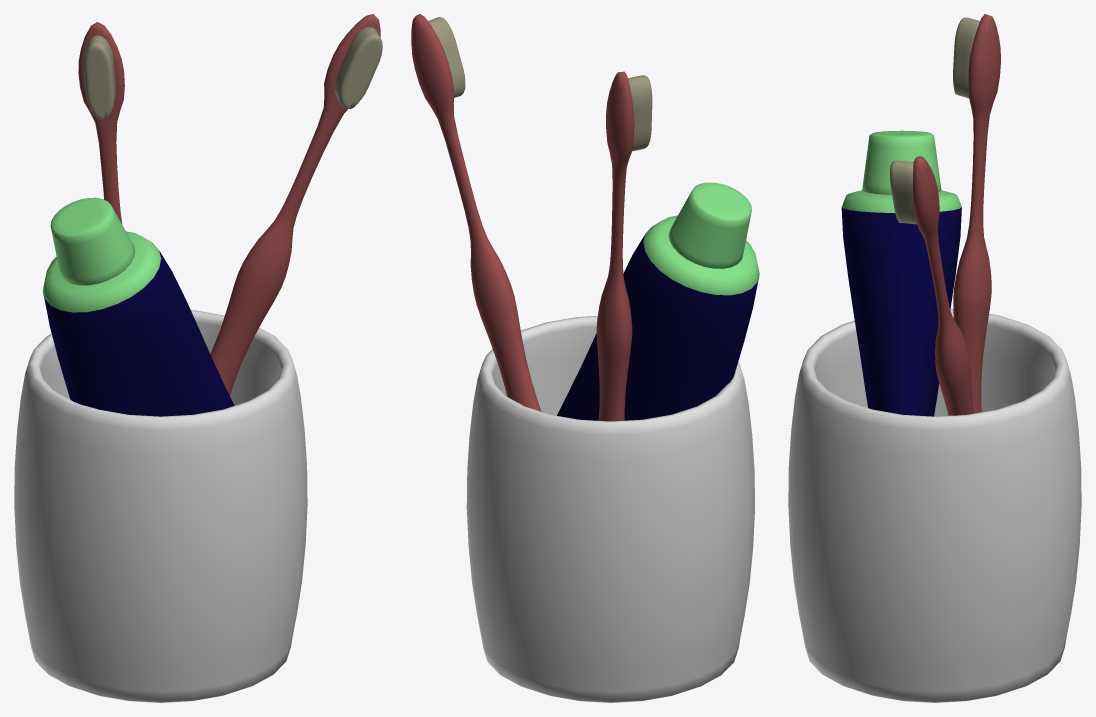
Rendered from Cup_Toothbrush.FBX.
3 views of the same model, side by side, from view 1: azimuth 30°, elevation 25°; view 2: azimuth 150°, elevation 25°; view 3: azimuth 270°, elevation 25° (orthographic).
Visible parts, largest first — view 1: Cup, Toothbrush; view 2: Cup, Toothbrush; view 3: Cup, Toothbrush.
Boxes of the visible parts, x1,y1,x2,y2 form: Cup: (14,310,307,702); Toothbrush: (42,14,382,416); Cup: (466,316,754,702); Toothbrush: (411,14,759,421); Cup: (788,309,1081,702); Toothbrush: (841,14,1000,416).
Bounding box in the file's own units: 2.3 × 1.73 × 4.04.
